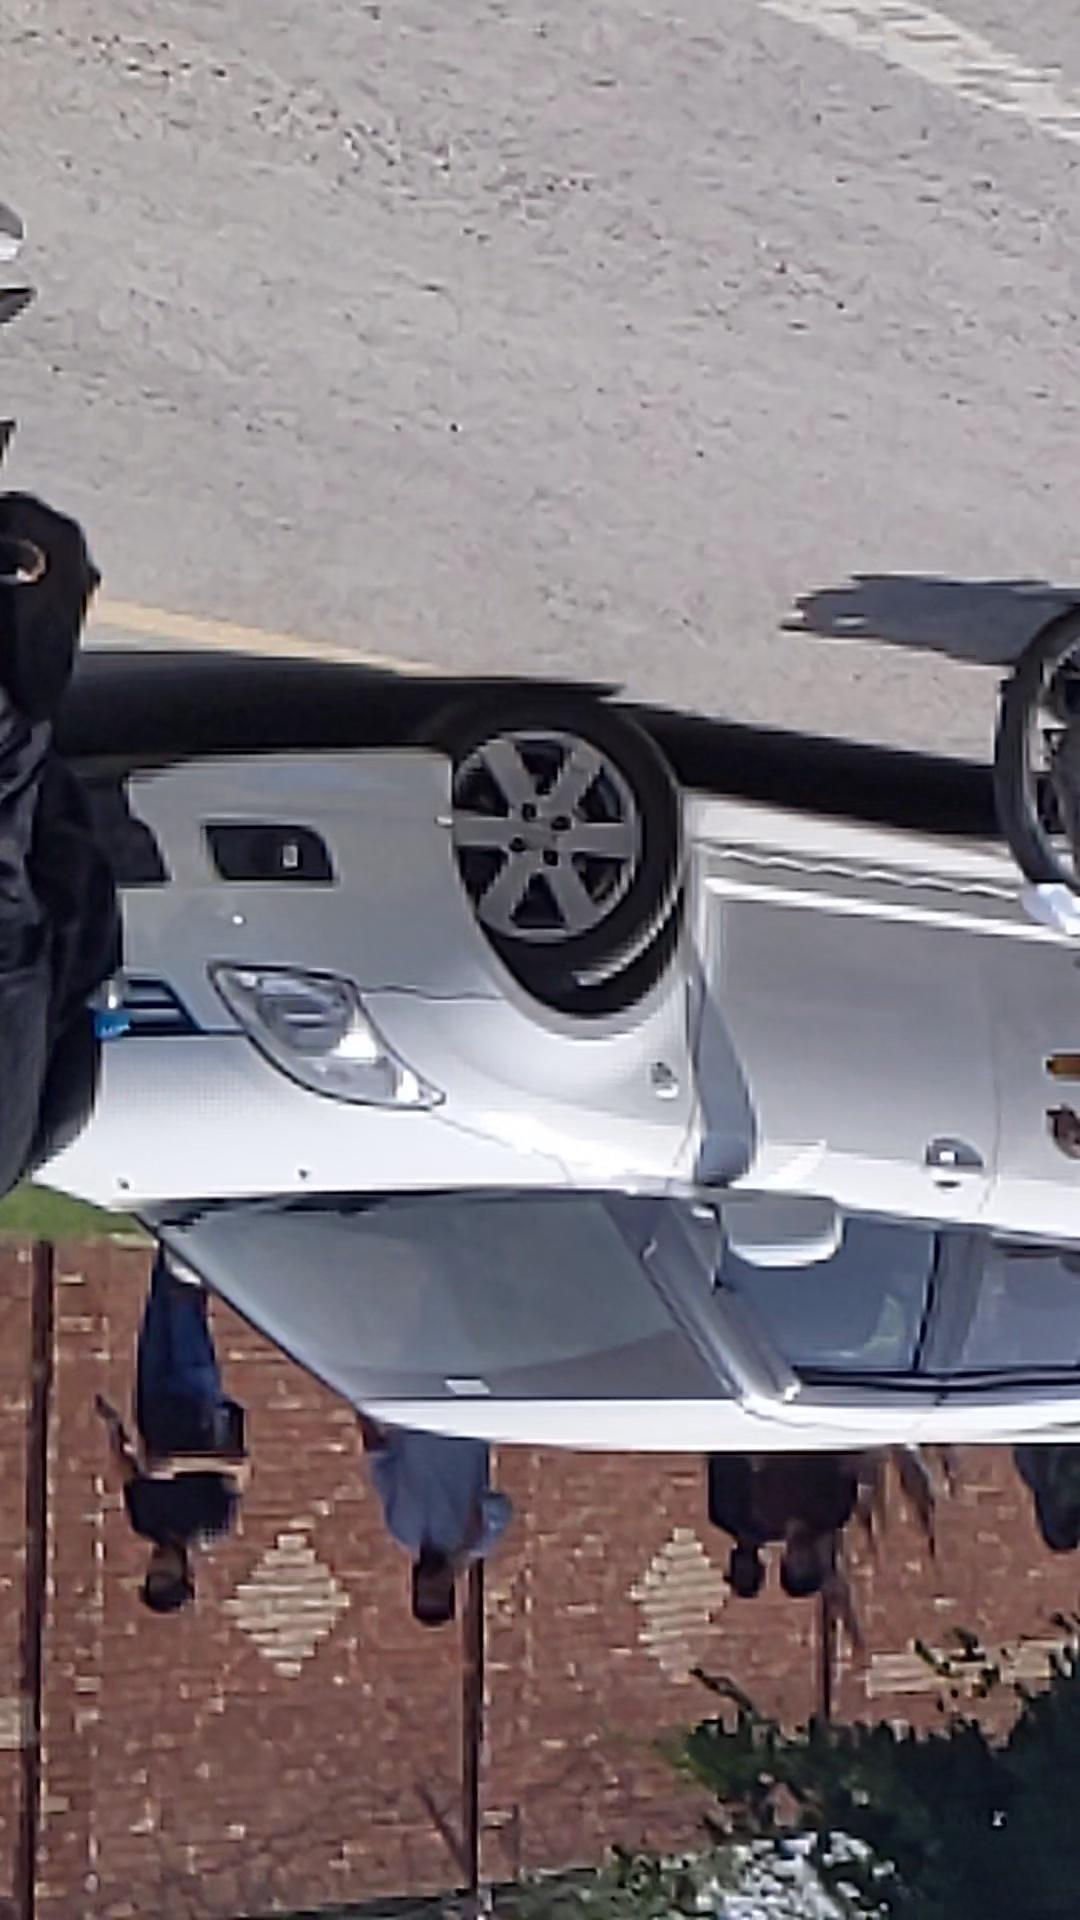windshield: (320, 495, 965, 745)
